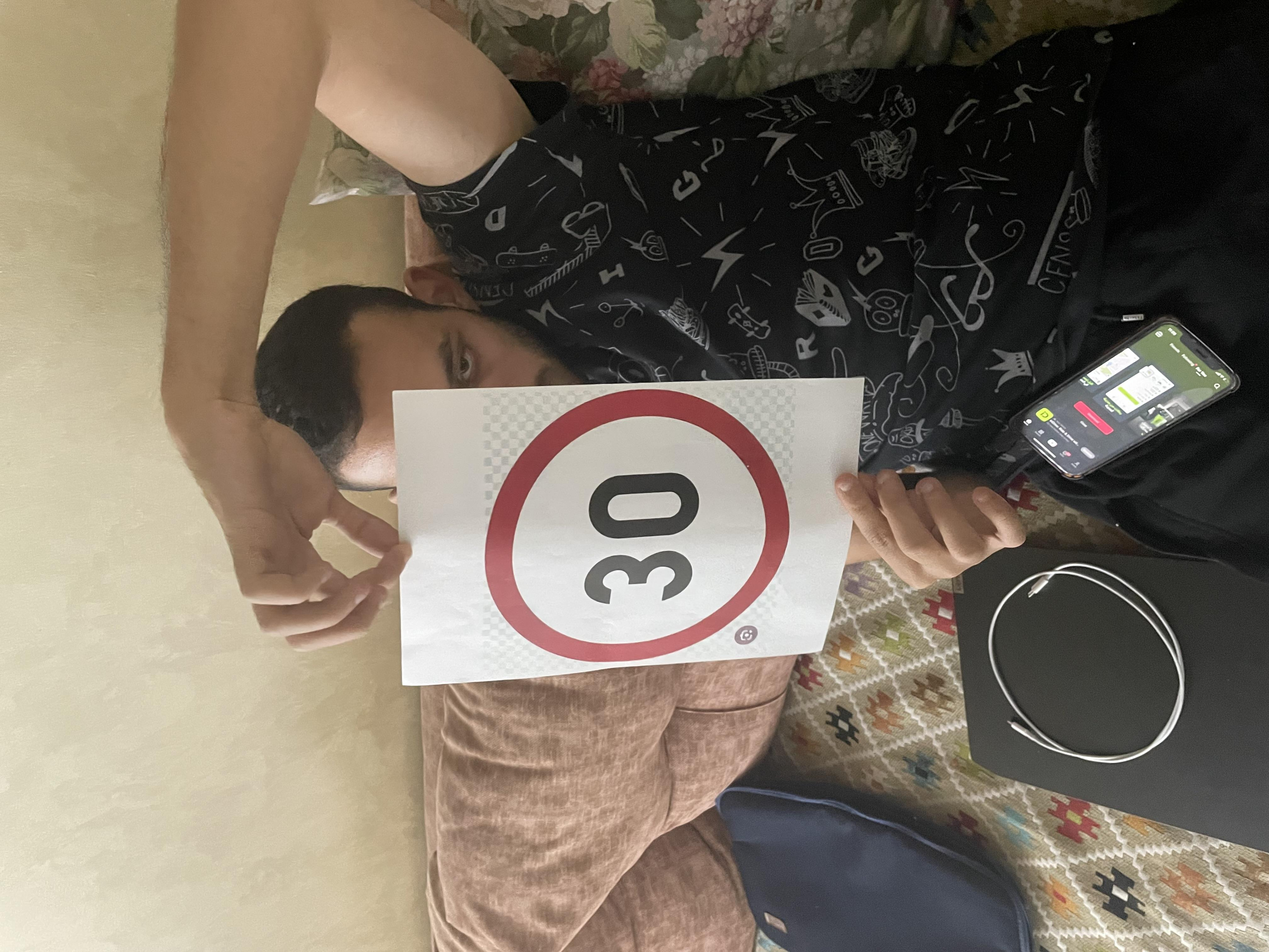30-speed: (375, 362, 760, 594)
